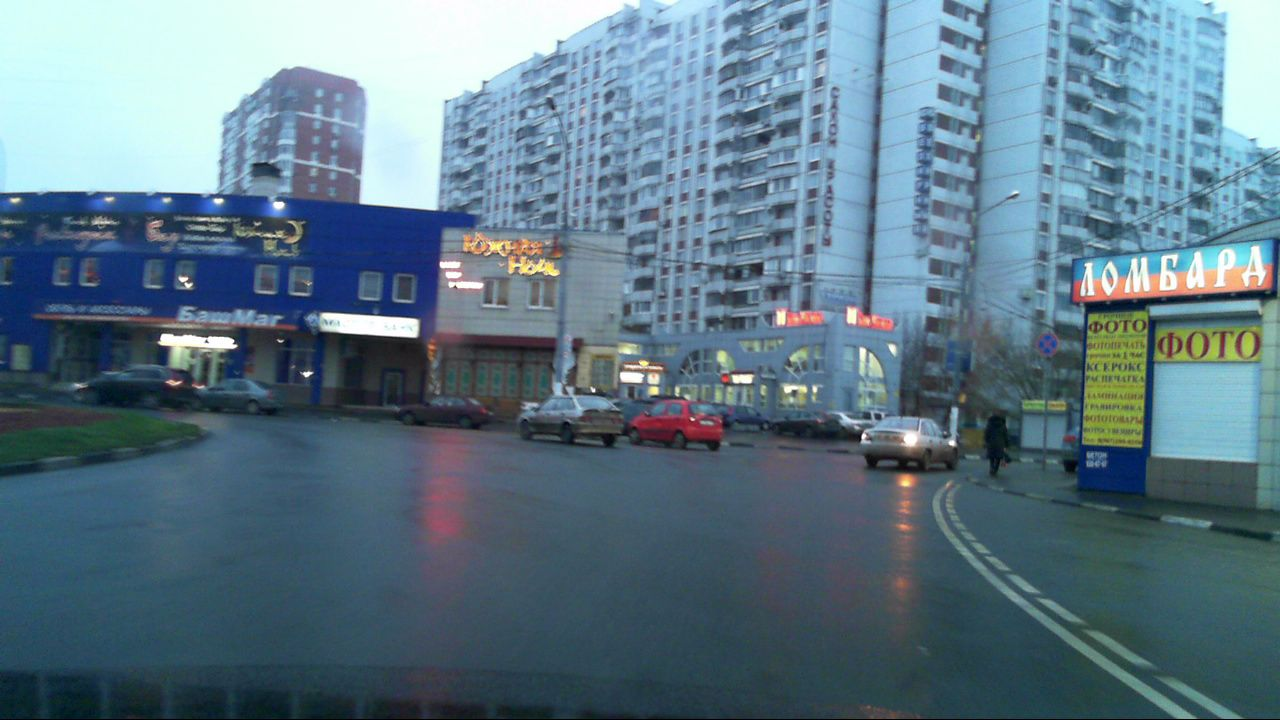No Parking: (1034, 332, 1059, 357)
